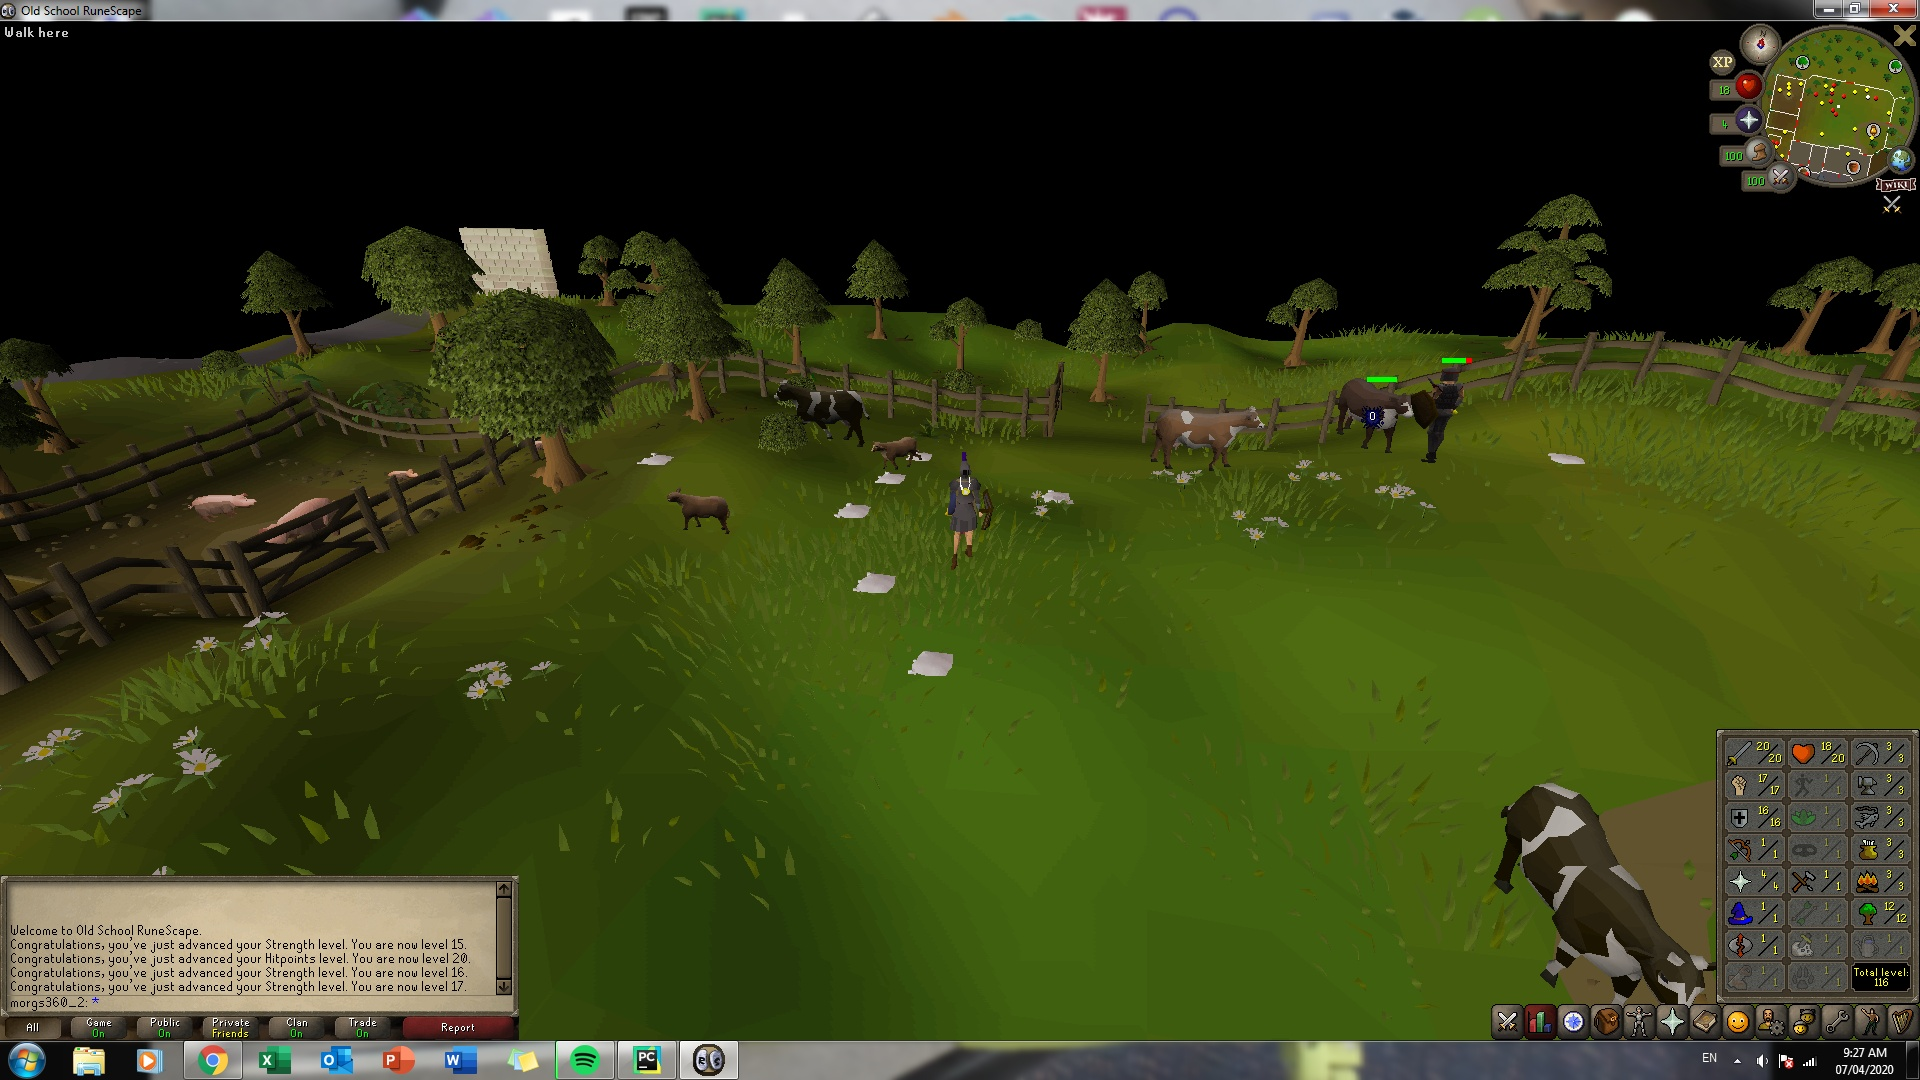cow: (1488, 775, 1713, 1006), (1150, 404, 1265, 473), (772, 375, 871, 444), (1331, 370, 1412, 451), (664, 485, 731, 535), (865, 435, 923, 474)
player: (943, 451, 985, 575)
